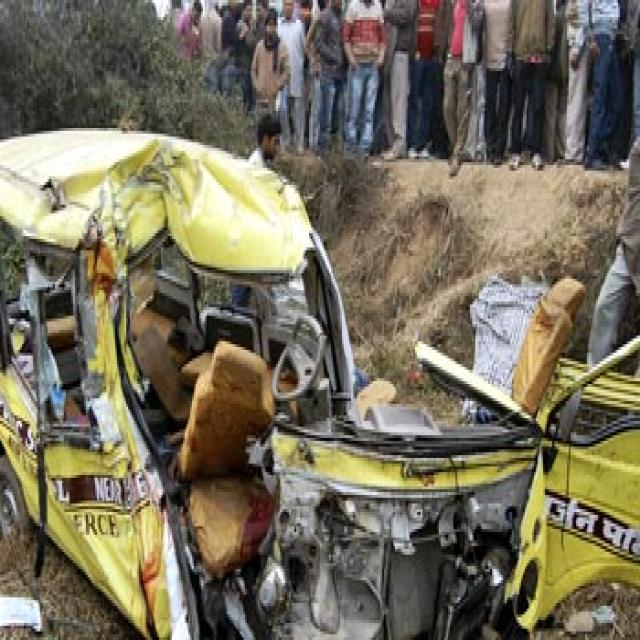accident: (0, 130, 640, 638)
